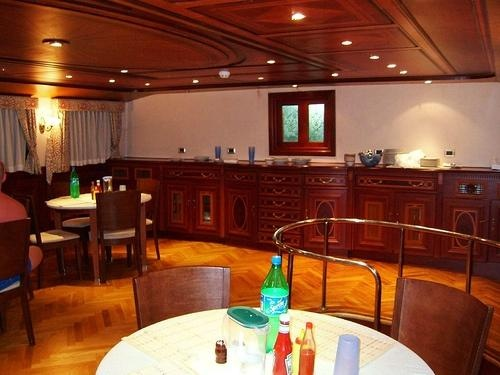bottle: (260, 257, 290, 353), (274, 315, 292, 375), (299, 322, 316, 375), (68, 170, 81, 199)
chair: (386, 277, 494, 375), (12, 197, 85, 289), (132, 266, 232, 330), (89, 192, 150, 286), (4, 220, 35, 349), (133, 178, 160, 260)
diningtable: (93, 308, 436, 374), (45, 191, 153, 279)
